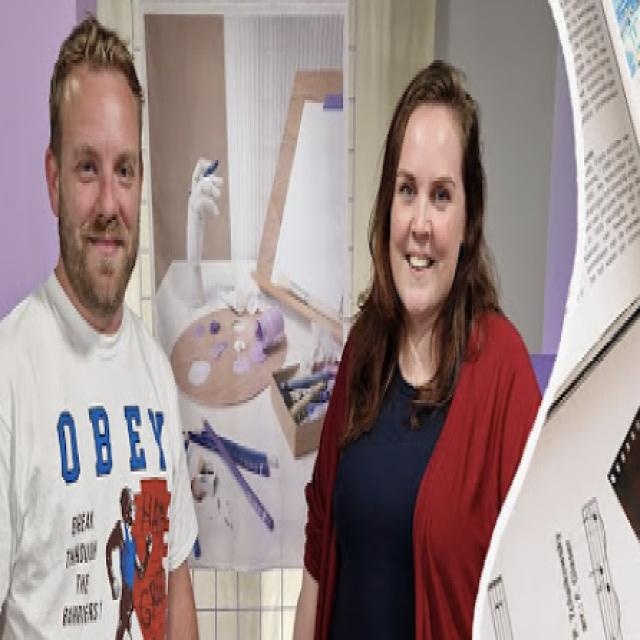happy: (387, 64, 498, 398)
